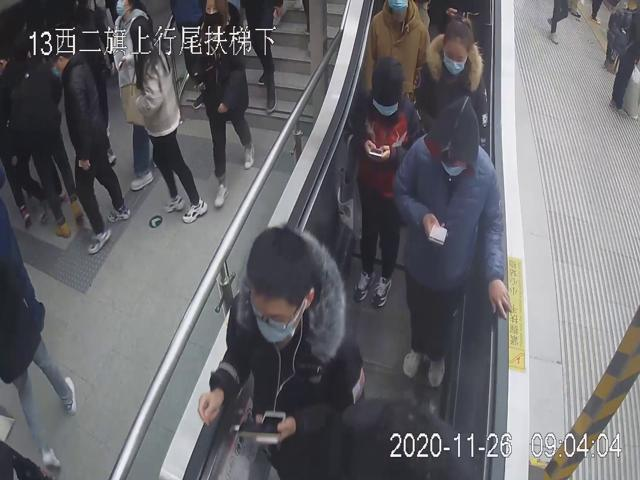person: (195, 225, 366, 444), (389, 97, 509, 395), (337, 55, 418, 311), (45, 39, 129, 258), (125, 20, 208, 221), (195, 0, 261, 213), (414, 17, 489, 152)
